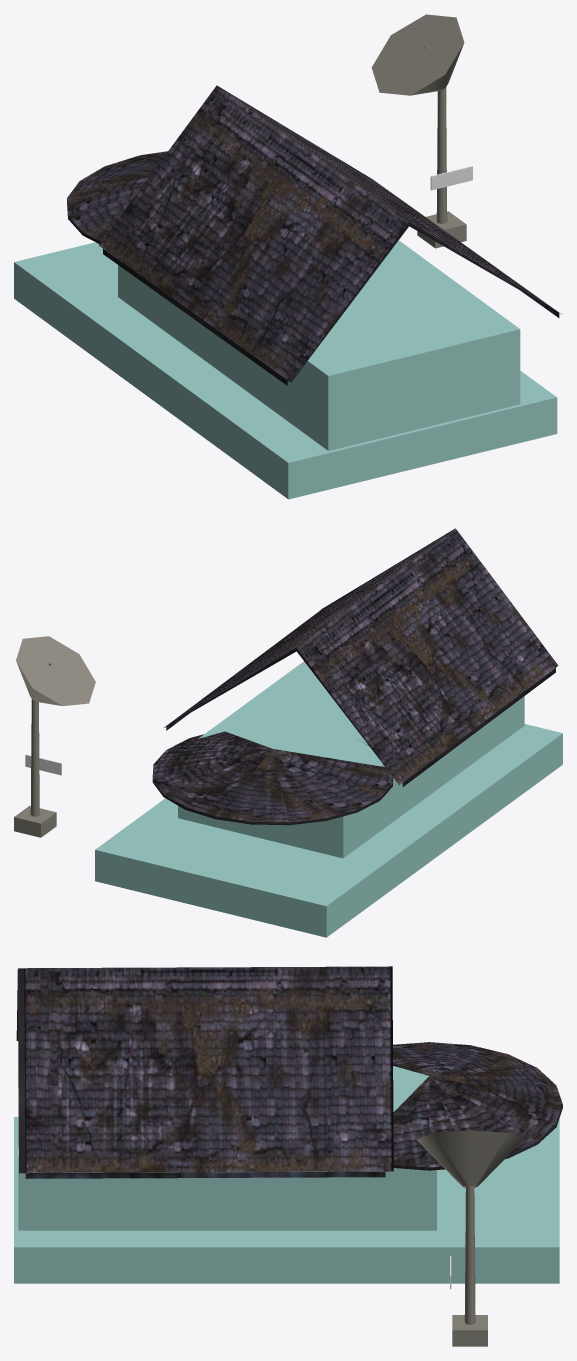
The picture shows the model from 3 angles, top to bottom: view 1: azimuth 30°, elevation 25°; view 2: azimuth 150°, elevation 25°; view 3: azimuth 270°, elevation 25°; orthographic projection. The views are drawn at different scales.
Visible parts, largest first — view 1: dweller_building_lab; view 2: dweller_building_lab; view 3: dweller_building_lab.
Part boxes in pixels (left/top/right/bottom): dweller_building_lab: left=14, top=14, right=562, bottom=499; dweller_building_lab: left=14, top=528, right=562, bottom=937; dweller_building_lab: left=14, top=966, right=562, bottom=1346.
Bounding box in the file's own units: 15.47 × 9 × 18.32.
4 materials, 1 textured.
